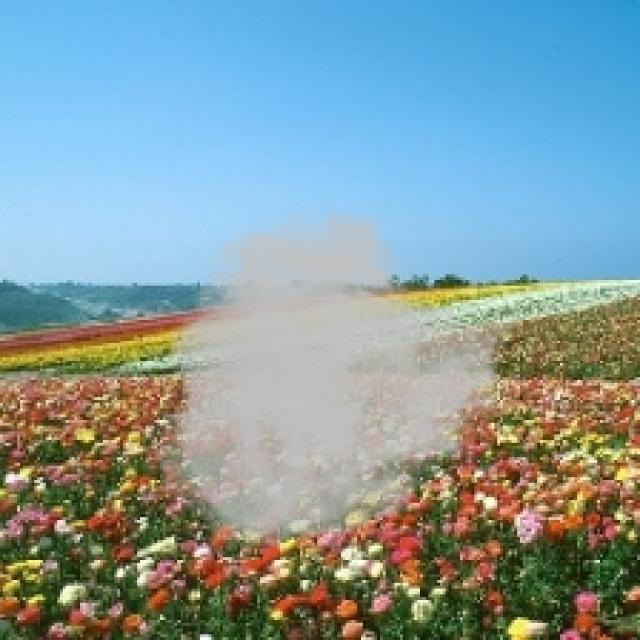smoke: (148, 206, 523, 554)
